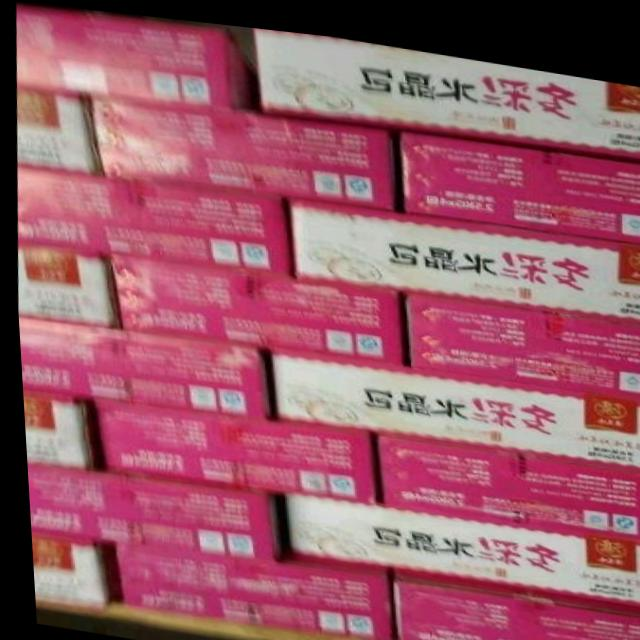box: (253, 22, 640, 147), (264, 339, 640, 456), (284, 188, 640, 306), (273, 486, 640, 599), (84, 90, 393, 200), (104, 252, 401, 355), (81, 393, 369, 494), (17, 164, 286, 267), (369, 426, 640, 526), (395, 120, 640, 228), (108, 542, 387, 635), (399, 281, 640, 385), (16, 315, 267, 414), (18, 2, 260, 104), (22, 463, 282, 556), (380, 565, 640, 640), (16, 245, 116, 323), (25, 531, 109, 611), (17, 87, 95, 169), (18, 386, 95, 464)
